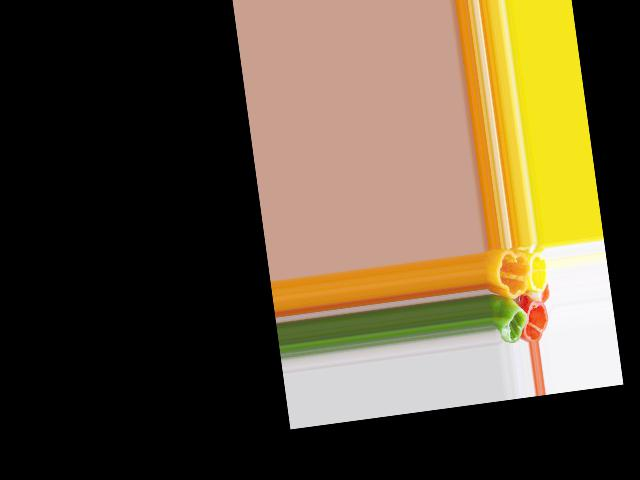bell_pepper: (521, 298, 552, 341)
